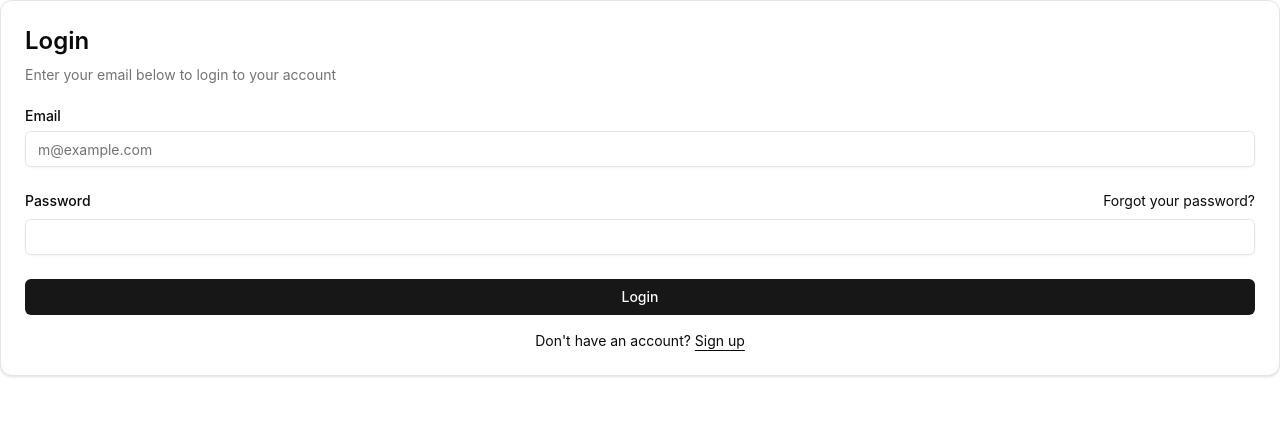
Test: LoginForm › never renders an unrecognized provider message verbatim
In the field labelled "Email": (640, 149) [25,131,1255,167], type "user@example.com"
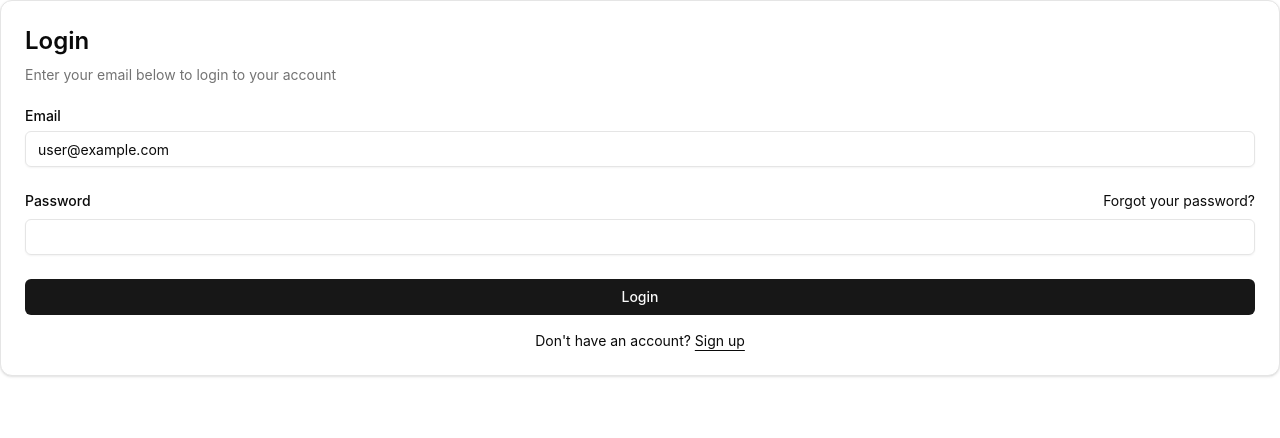
In the password field labelled "Password": (640, 237) [25,219,1255,255], type "sup3r-secret"
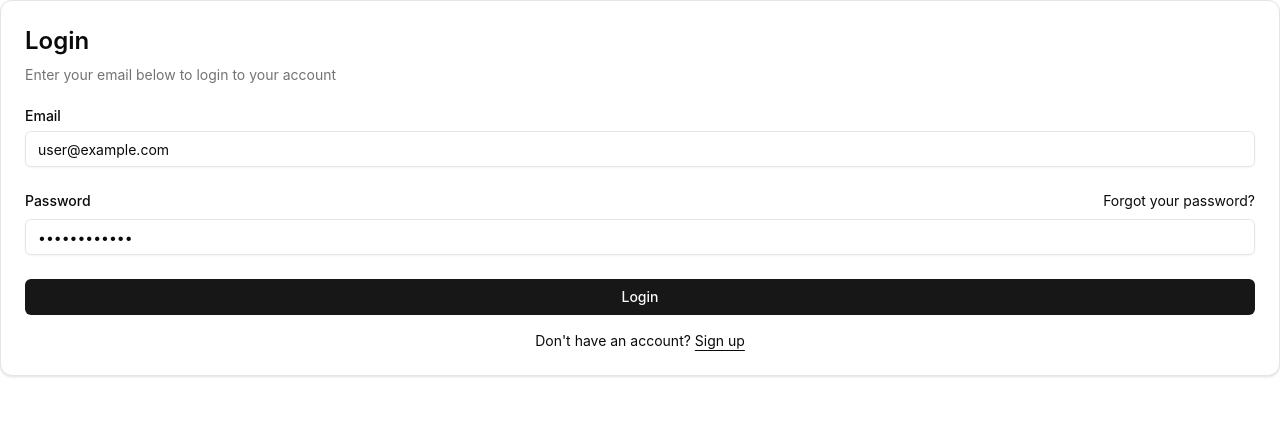
Click the button "Login": (640, 297) [25,279,1255,315]
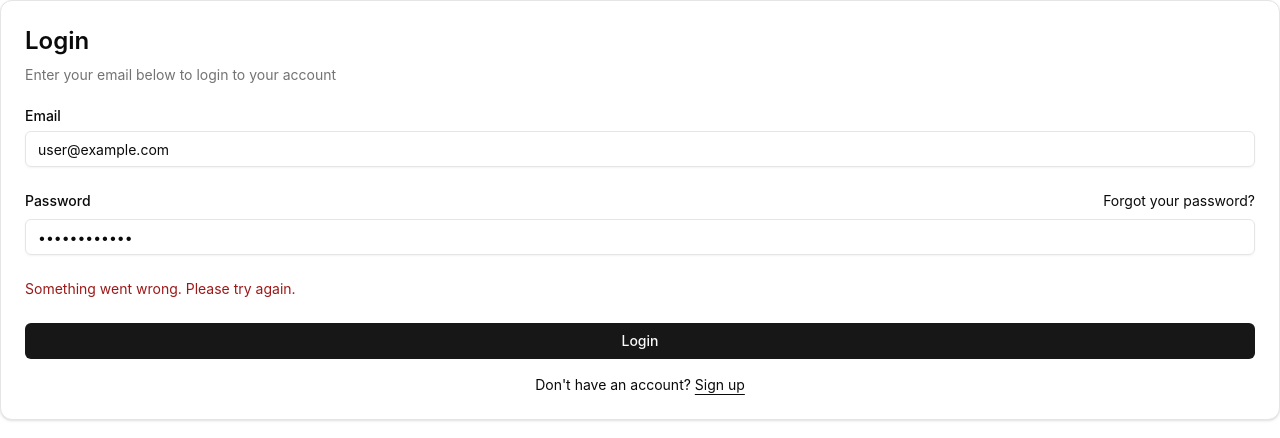
Check: the text "Something went wrong. Please try again." is shown, box [25,280,296,297]
